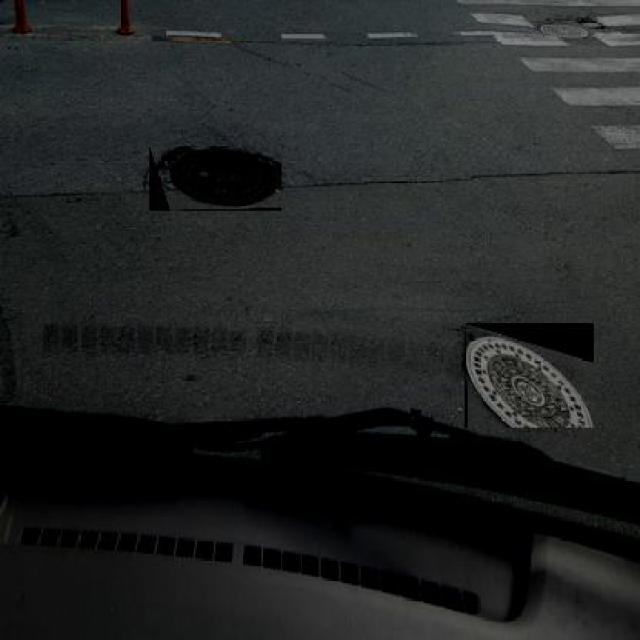Manhole: (464, 323, 594, 428), (538, 22, 588, 40)
Open Manhole: (149, 146, 282, 212)
Pothole: (575, 15, 599, 25), (588, 23, 608, 31)
